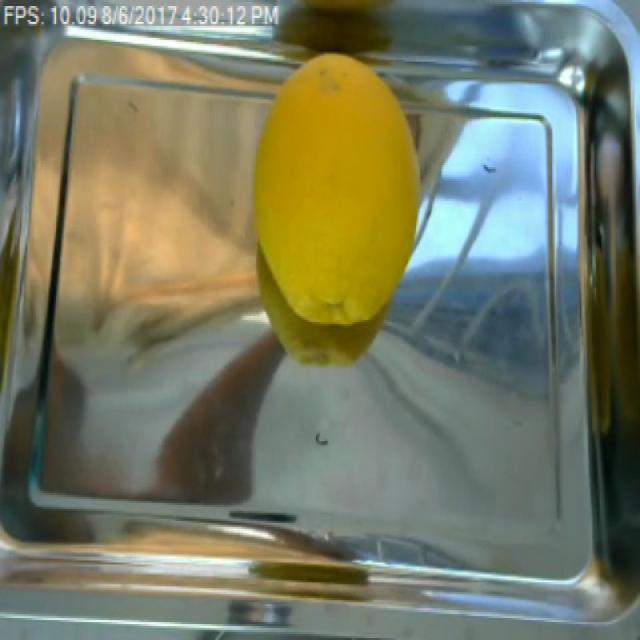Fruit: (244, 48, 429, 350)
